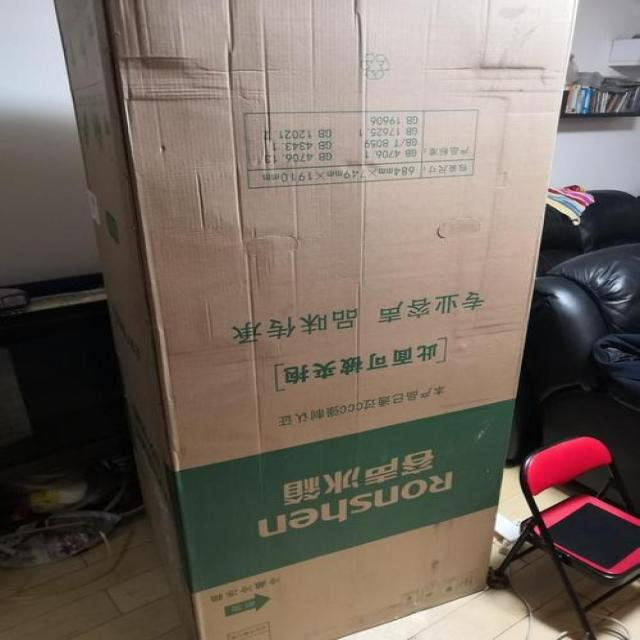cardboard: (51, 0, 555, 640)
